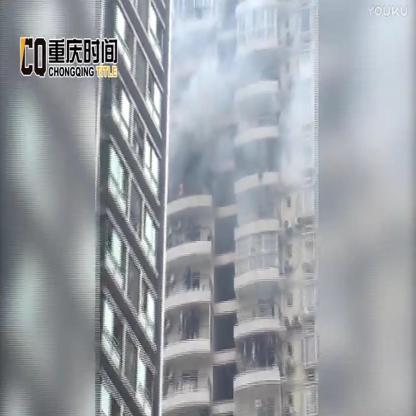smoke: (169, 21, 229, 195), (278, 82, 310, 192)
